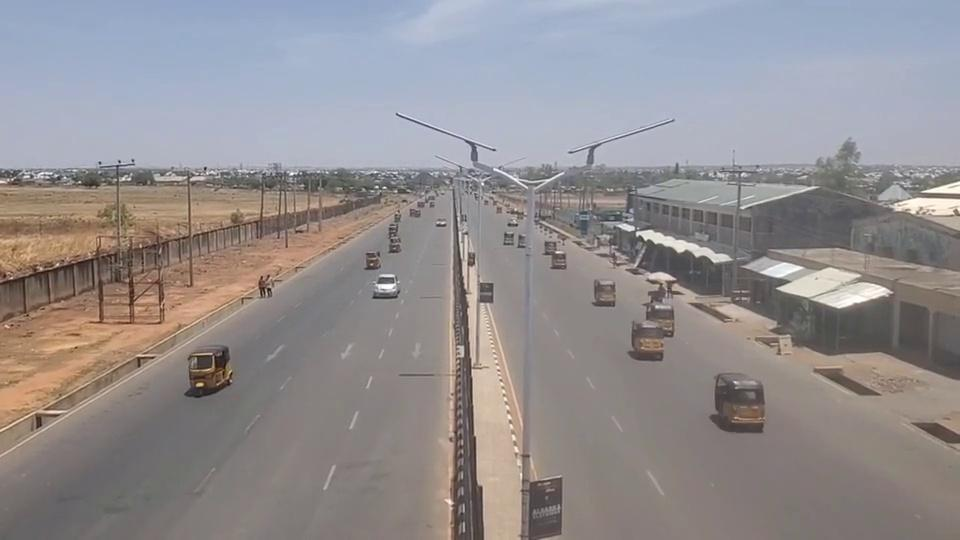keke: (713, 370, 767, 434), (186, 342, 234, 399), (632, 317, 666, 364), (644, 302, 678, 340), (592, 279, 617, 308), (364, 250, 384, 270), (552, 250, 568, 268), (544, 240, 560, 256), (388, 236, 400, 252)
